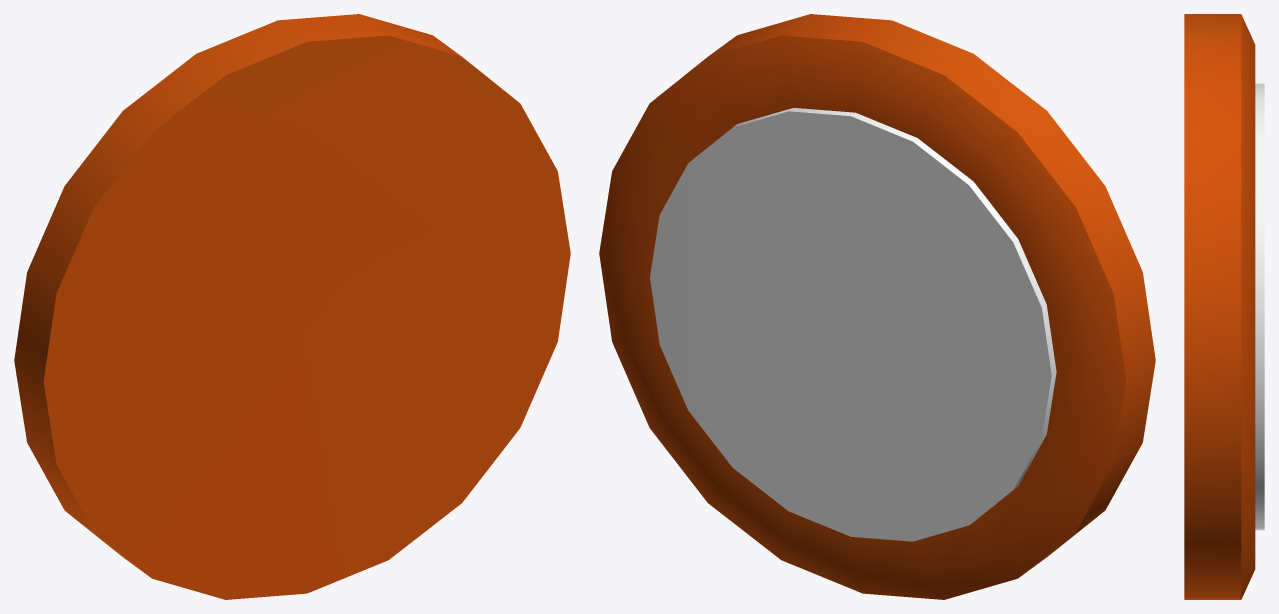
The model's file is bullet_portal.fbx.
3 renders of one model, left to right at view 1: azimuth 30°, elevation 25°; view 2: azimuth 150°, elevation 25°; view 3: azimuth 270°, elevation 25°, orthographic. The views are drawn at different scales.
Parts seen in each view (by area): view 1: bullet_portal; view 2: bullet_portal; view 3: bullet_portal.
Part boxes in pixels (<box>): bullet_portal: <box>14,14,570,599</box>; bullet_portal: <box>599,14,1155,599</box>; bullet_portal: <box>1184,14,1264,599</box>.
Bounding box in the file's own units: 0.9582 × 0.9582 × 0.1301.
